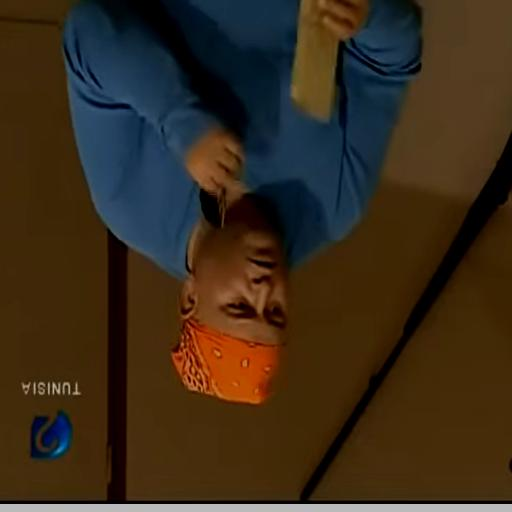sboui: (171, 213, 287, 403)
